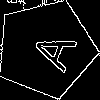A: (21, 24, 78, 73)
